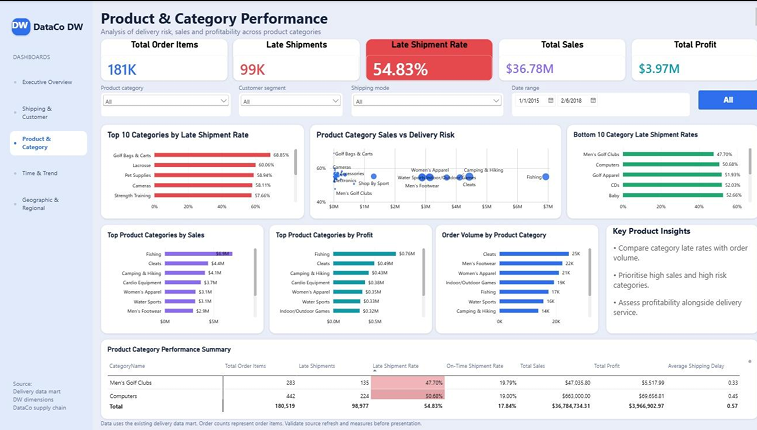

Layout of this report page (visuals, bound fields, positions):
{"tool":"powerbi","page":{"name":"Product & Category","canvas":[1920,1080],"ordinal":2},"visuals":[{"type":"textbox","box":[0,0,240,1080],"z":0},{"type":"textbox","box":[38,44,48,45],"z":1000},{"type":"textbox","box":[92,48,136,42],"z":2000},{"type":"textbox","box":[42,130,180,30],"z":3000},{"type":"textbox","box":[42,944,174,95],"z":4000},{"type":"textbox","box":[260,18,1640,46],"z":5000},{"type":"textbox","box":[260,65,1640,25],"z":6000},{"type":"textbox","box":[260,1045,1640,24],"z":7000},{"type":"cardVisual","title":"Total Order Items","fields":{"Data":["DM FactDeliveryPerformance.Total Order Items"]},"box":[260,96,316.8,105],"z":8000},{"type":"cardVisual","title":"Late Shipments","fields":{"Data":["DM FactDeliveryPerformance.Late Shipments"]},"box":[590.8,96,316.8,105],"z":9000},{"type":"cardVisual","title":"Late Shipment Rate","fields":{"Data":["DM FactDeliveryPerformance.Late Shipment Rate"]},"box":[921.6,96,316.8,105],"z":10000},{"type":"cardVisual","title":"Total Sales","fields":{"Data":["DM FactDeliveryPerformance.Total Sales"]},"box":[1252.4,96,316.8,105],"z":11000},{"type":"cardVisual","title":"Total Profit","fields":{"Data":["DM FactDeliveryPerformance.Total Profit"]},"box":[1583.2,96,316.8,105],"z":12000},{"type":"barChart","title":"Top 10 Categories by Late Shipment Rate","fields":{"Category":["DM FactDeliveryPerformance.CategoryName"],"Y":["DM FactDeliveryPerformance.Late Shipment Rate"]},"box":[260,310,507,235],"z":13000},{"type":"scatterChart","title":"Product Category Sales vs Delivery Risk","fields":{"Category":["DM FactDeliveryPerformance.CategoryName"],"Size":["DM FactDeliveryPerformance.Total Order Items"],"X":["DM FactDeliveryPerformance.Total Sales"],"Y":["DM FactDeliveryPerformance.Late Shipment Rate"]},"box":[781,310,627,235],"z":14000},{"type":"barChart","title":"Bottom 10 Category Late Shipment Rates","fields":{"Category":["DM FactDeliveryPerformance.CategoryName"],"Y":["DM FactDeliveryPerformance.Late Shipment Rate"]},"box":[1422,310,478,235],"z":15000},{"type":"barChart","title":"Top Product Categories by Sales","fields":{"Category":["DM FactDeliveryPerformance.CategoryName"],"Y":["DM FactDeliveryPerformance.Total Sales"]},"box":[260,559,406,272],"z":16000},{"type":"barChart","title":"Top Product Categories by Profit","fields":{"Category":["DM FactDeliveryPerformance.CategoryName"],"Y":["DM FactDeliveryPerformance.Total Profit"]},"box":[680,559,406,272],"z":17000},{"type":"barChart","title":"Order Volume by Product Category","fields":{"Category":["DM FactDeliveryPerformance.CategoryName"],"Y":["DM FactDeliveryPerformance.Total Order Items"]},"box":[1094.8,559.2,406,272],"z":18000},{"type":"textbox","box":[1520,559,380,272],"z":19000},{"type":"textbox","box":[1538,605,344,214],"z":20000},{"type":"pivotTable","title":"Product Category Performance Summary","fields":{"Rows":["DM FactDeliveryPerformance.CategoryName"],"Values":["DM FactDeliveryPerformance.Total Order Items","DM FactDeliveryPerformance.Late Shipments","DM FactDeliveryPerformance.Late Shipment Rate","DM FactDeliveryPerformance.On-Time Shipment Rate","DM FactDeliveryPerformance.Total Sales","DM FactDeliveryPerformance.Total Profit","DM FactDeliveryPerformance.Average Shipping Delay"]},"box":[260.6,845.1,1639.6,199.1],"z":21000},{"type":"textbox","box":[34,326,192,61],"z":22000},{"type":"textbox","box":[65,191,165,48],"z":23000},{"type":"textbox","box":[65,258,165,48],"z":24000},{"type":"textbox","box":[65,334,165,48],"z":25000},{"type":"textbox","box":[65,419,165,48],"z":26000},{"type":"textbox","box":[65,486,165,48],"z":27000},{"type":"textbox","box":[44,496,22,28],"z":28000},{"type":"textbox","box":[44,268,22,28],"z":29000},{"type":"textbox","box":[44,192,22,28],"z":30000},{"type":"textbox","box":[44,420,22,28],"z":31000},{"type":"textbox","box":[44,344,22,28],"z":32000},{"type":"actionButton","box":[34,174,192,61],"z":33000},{"type":"actionButton","box":[34,250,192,61],"z":34000},{"type":"actionButton","box":[34,326,192,61],"z":35000},{"type":"actionButton","box":[34,402,192,61],"z":36000},{"type":"actionButton","box":[34,478,192,61],"z":37000},{"type":"textbox","box":[885,208,380,21],"z":38000},{"type":"textbox","box":[260,208,325,21],"z":39000},{"type":"textbox","box":[1285,208,445,21],"z":40000},{"type":"textbox","box":[605,208,260,21],"z":41000},{"type":"slicer","fields":{"Values":["DM FactDeliveryPerformance.CategoryName"]},"box":[260,229,325,60],"z":42000},{"type":"slicer","fields":{"Values":["DW DimDate.FullDate"]},"box":[1285,229,445,60],"z":43000},{"type":"slicer","fields":{"Values":["DM FactDeliveryPerformance.CustomerSegment"]},"box":[605,229,260,60],"z":44000},{"type":"slicer","fields":{"Values":["DW DimShipping.Shipping_Mode"]},"box":[885,229,380,60],"z":45000},{"type":"actionButton","box":[1750,225,150,48],"z":46000}]}

Visuals, with their boxes on the page's 1920x1080 design canvas (x1, y1, x2, y2). These are canvas units, not pixel positions in the 757x430 screenshot, which may show the page scaled, cropped or inside an application window:
textbox: (0, 0, 240, 1080)
textbox: (38, 44, 86, 89)
textbox: (92, 48, 228, 90)
textbox: (42, 130, 222, 160)
textbox: (42, 944, 216, 1039)
textbox: (260, 18, 1900, 64)
textbox: (260, 65, 1900, 90)
textbox: (260, 1045, 1900, 1069)
"Total Order Items" cardVisual: (260, 96, 577, 201)
"Late Shipments" cardVisual: (591, 96, 908, 201)
"Late Shipment Rate" cardVisual: (922, 96, 1238, 201)
"Total Sales" cardVisual: (1252, 96, 1569, 201)
"Total Profit" cardVisual: (1583, 96, 1900, 201)
"Top 10 Categories by Late Shipment Rate" barChart: (260, 310, 767, 545)
"Product Category Sales vs Delivery Risk" scatterChart: (781, 310, 1408, 545)
"Bottom 10 Category Late Shipment Rates" barChart: (1422, 310, 1900, 545)
"Top Product Categories by Sales" barChart: (260, 559, 666, 831)
"Top Product Categories by Profit" barChart: (680, 559, 1086, 831)
"Order Volume by Product Category" barChart: (1095, 559, 1501, 831)
textbox: (1520, 559, 1900, 831)
textbox: (1538, 605, 1882, 819)
"Product Category Performance Summary" pivotTable: (261, 845, 1900, 1044)
textbox: (34, 326, 226, 387)
textbox: (65, 191, 230, 239)
textbox: (65, 258, 230, 306)
textbox: (65, 334, 230, 382)
textbox: (65, 419, 230, 467)
textbox: (65, 486, 230, 534)
textbox: (44, 496, 66, 524)
textbox: (44, 268, 66, 296)
textbox: (44, 192, 66, 220)
textbox: (44, 420, 66, 448)
textbox: (44, 344, 66, 372)
actionButton: (34, 174, 226, 235)
actionButton: (34, 250, 226, 311)
actionButton: (34, 326, 226, 387)
actionButton: (34, 402, 226, 463)
actionButton: (34, 478, 226, 539)
textbox: (885, 208, 1265, 229)
textbox: (260, 208, 585, 229)
textbox: (1285, 208, 1730, 229)
textbox: (605, 208, 865, 229)
slicer - DM FactDeliveryPerformance.CategoryName: (260, 229, 585, 289)
slicer - DW DimDate.FullDate: (1285, 229, 1730, 289)
slicer - DM FactDeliveryPerformance.CustomerSegment: (605, 229, 865, 289)
slicer - DW DimShipping.Shipping_Mode: (885, 229, 1265, 289)
actionButton: (1750, 225, 1900, 273)
